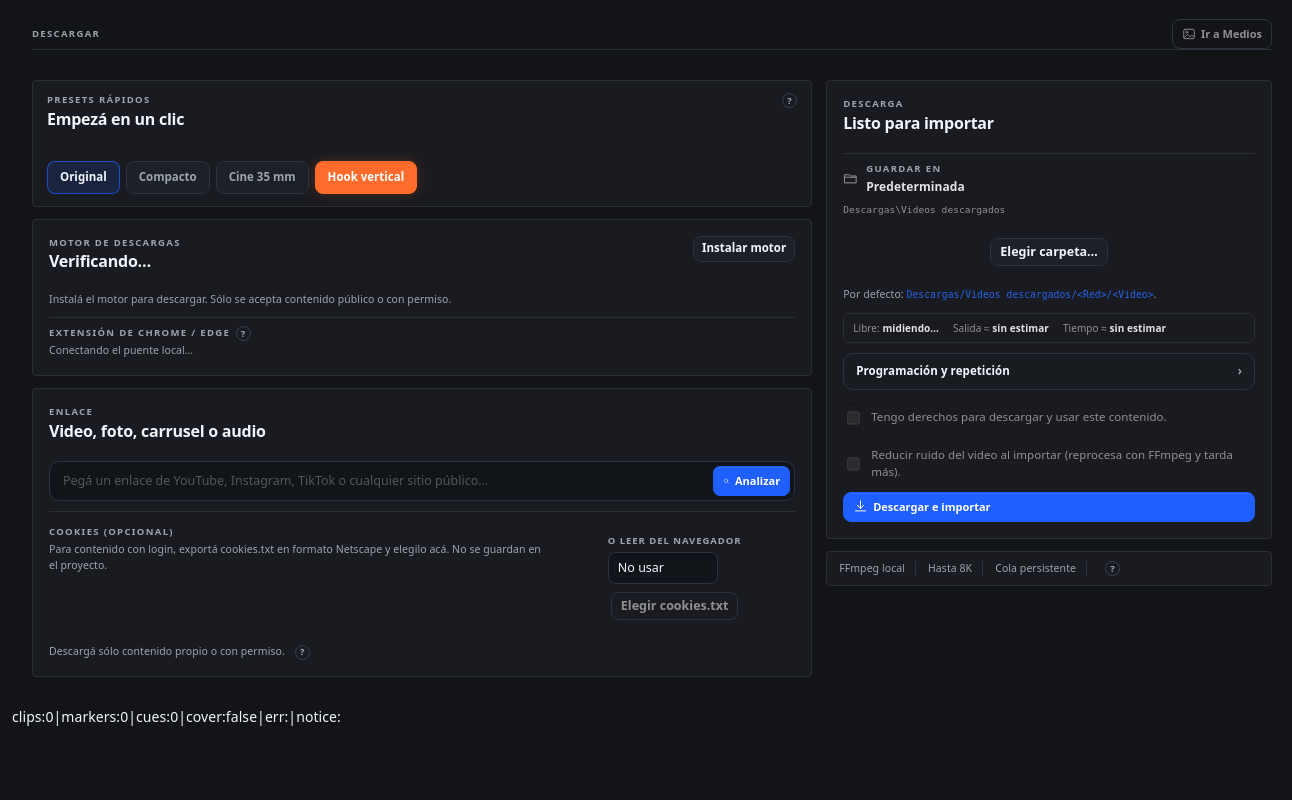
Scenario: descargador · delogo y Lanczos › mantiene el enrutamiento automático y el control de red accesibles
Step 1. Replace the text in the field named "URL para descargar" with "https://www.youtube.com/watch?v=abc123" → coordinates (381, 481), box [54,466,707,496]
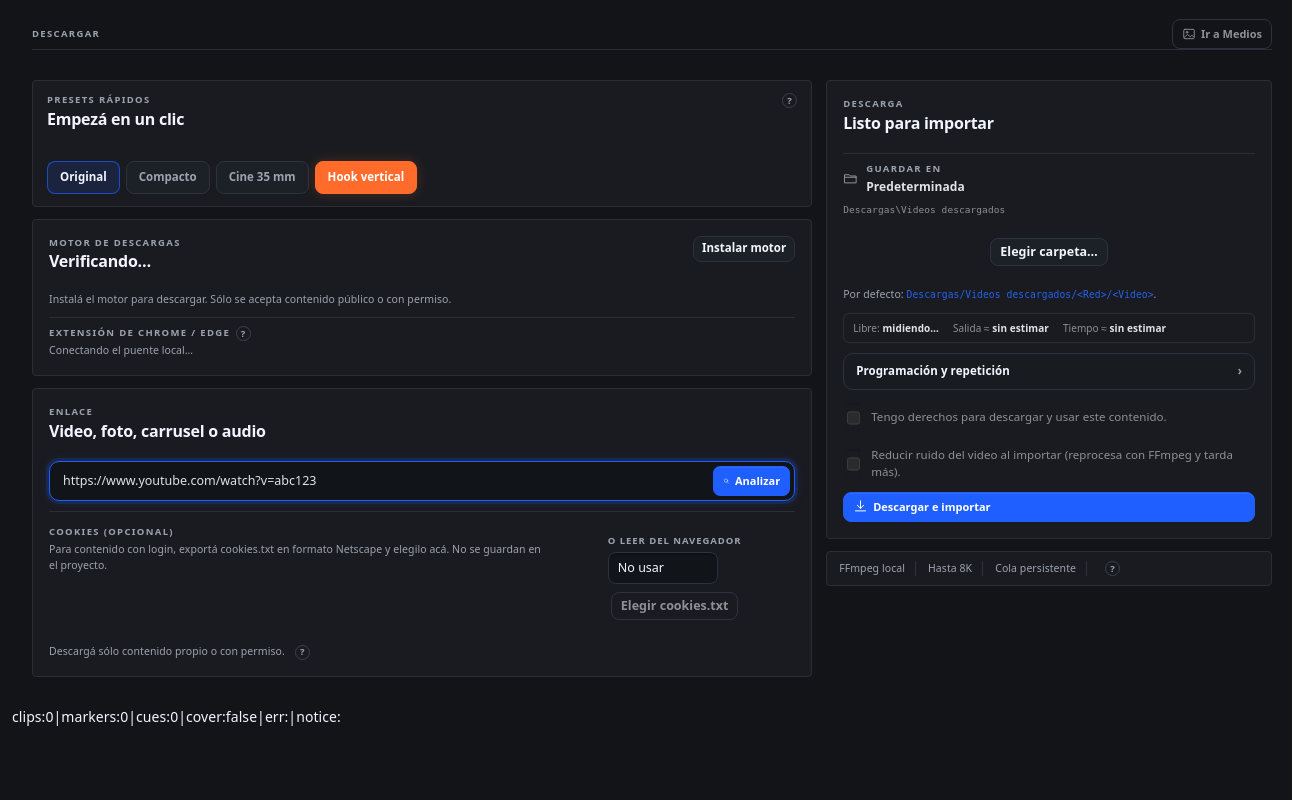
Step 2. Click the button "Analizar" → coordinates (752, 481), box [713,466,790,496]
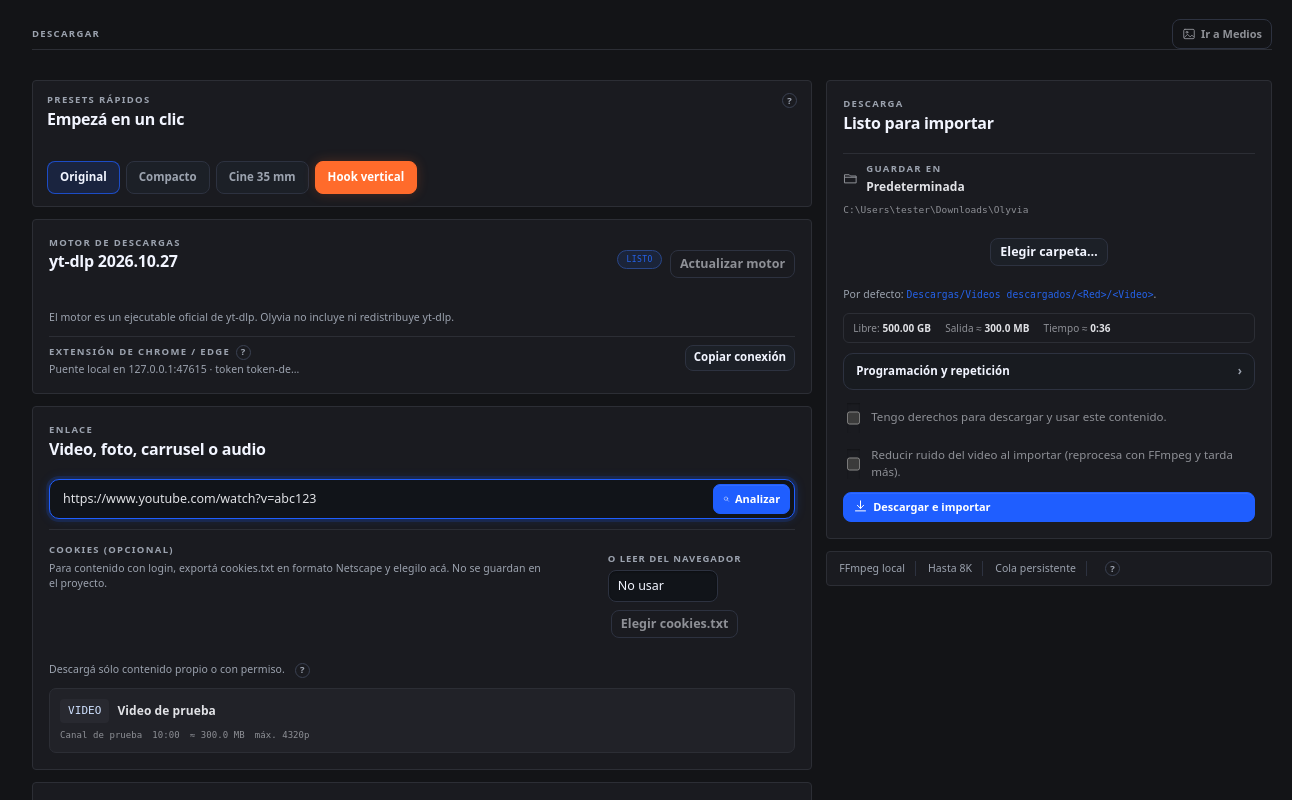
Expected: the dropdown labelled "O leer del navegador" is shown, [608,570,718,602]
Expected: the text "Video de prueba" is shown, [118,702,216,720]
